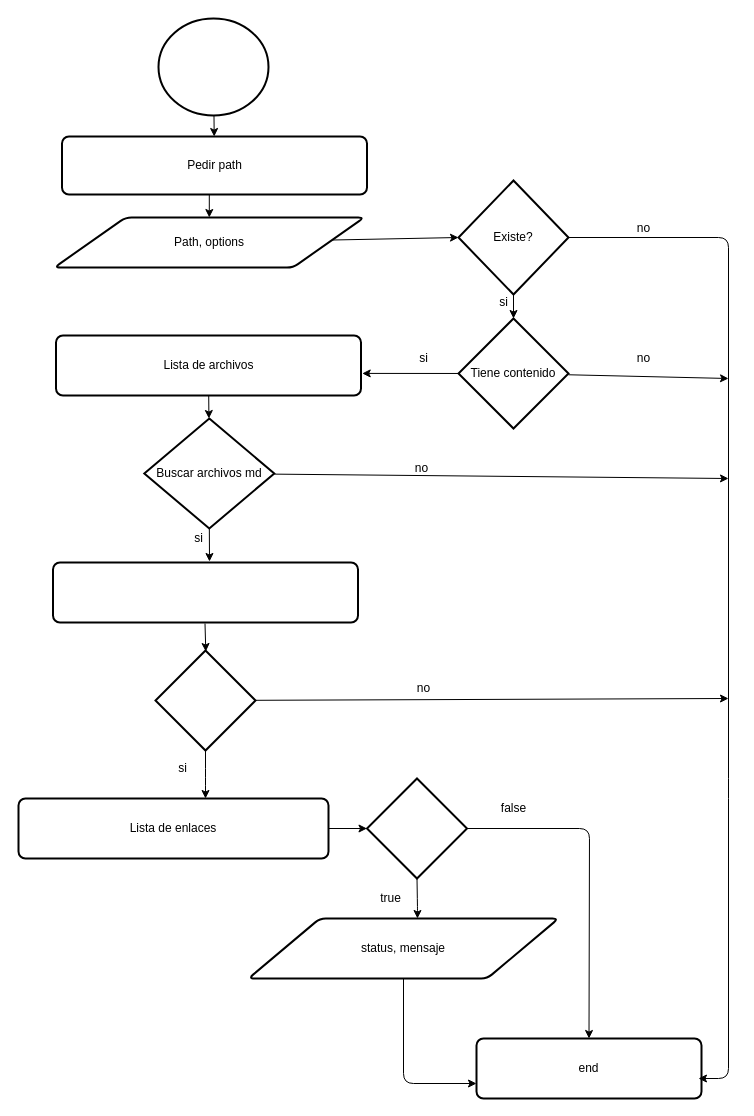
Image size: 754x1116. Some labels were removed from this diagram. The centre of each missing label's shape, as x and y in pixels:
"API" belongs at (x=213, y=66).
"Buscar enlaces" belongs at (x=205, y=700).
"Lista de archivos md" belongs at (x=205, y=592).
"validate?" belongs at (x=417, y=828).
